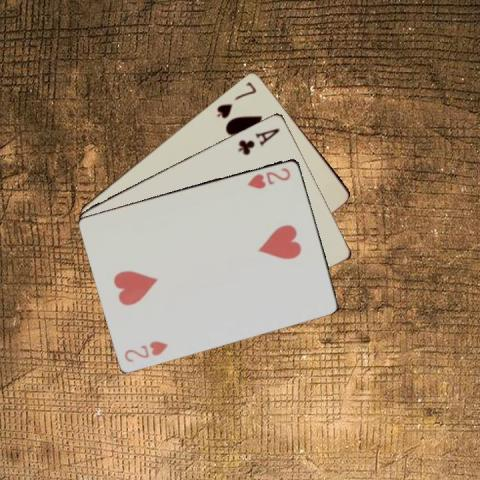2h: (244, 164, 292, 190), (122, 338, 169, 364)
7s: (213, 78, 258, 120)
Ac: (235, 125, 281, 156)
